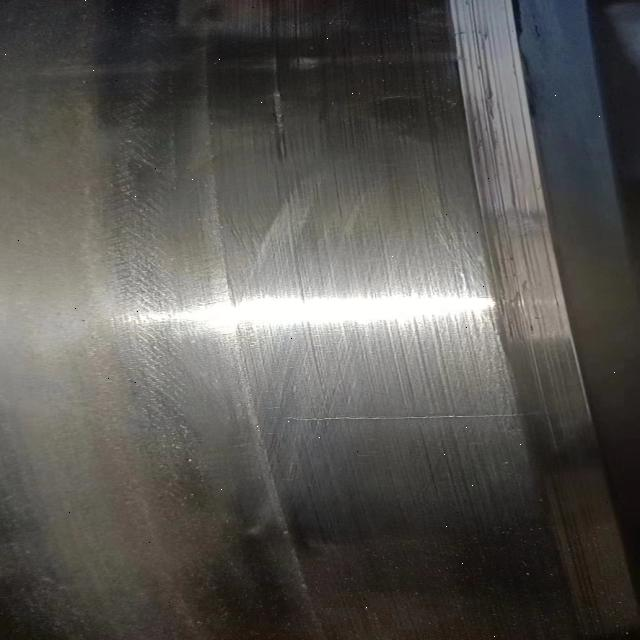Brake_Thermal_Cracks: (283, 395, 579, 431)
